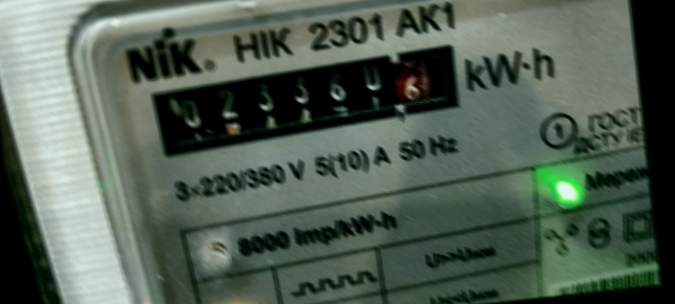0: (177, 93, 202, 129), (357, 59, 382, 92)
2: (215, 84, 238, 119)
3: (288, 69, 310, 104), (251, 79, 273, 112)
6: (398, 68, 423, 103), (323, 67, 347, 102)
screen: (132, 32, 478, 163)
